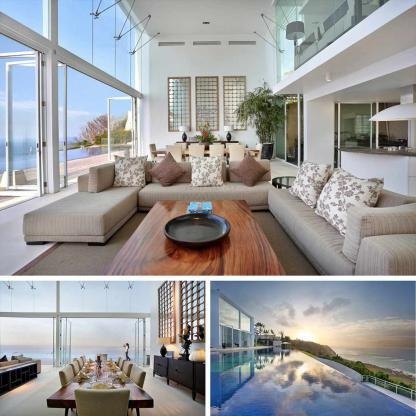bantal: (324, 166, 367, 227), (290, 156, 323, 208), (113, 155, 147, 189), (150, 154, 184, 186)
sova: (278, 172, 416, 274), (87, 152, 274, 207)
tanaman: (247, 95, 289, 158)
